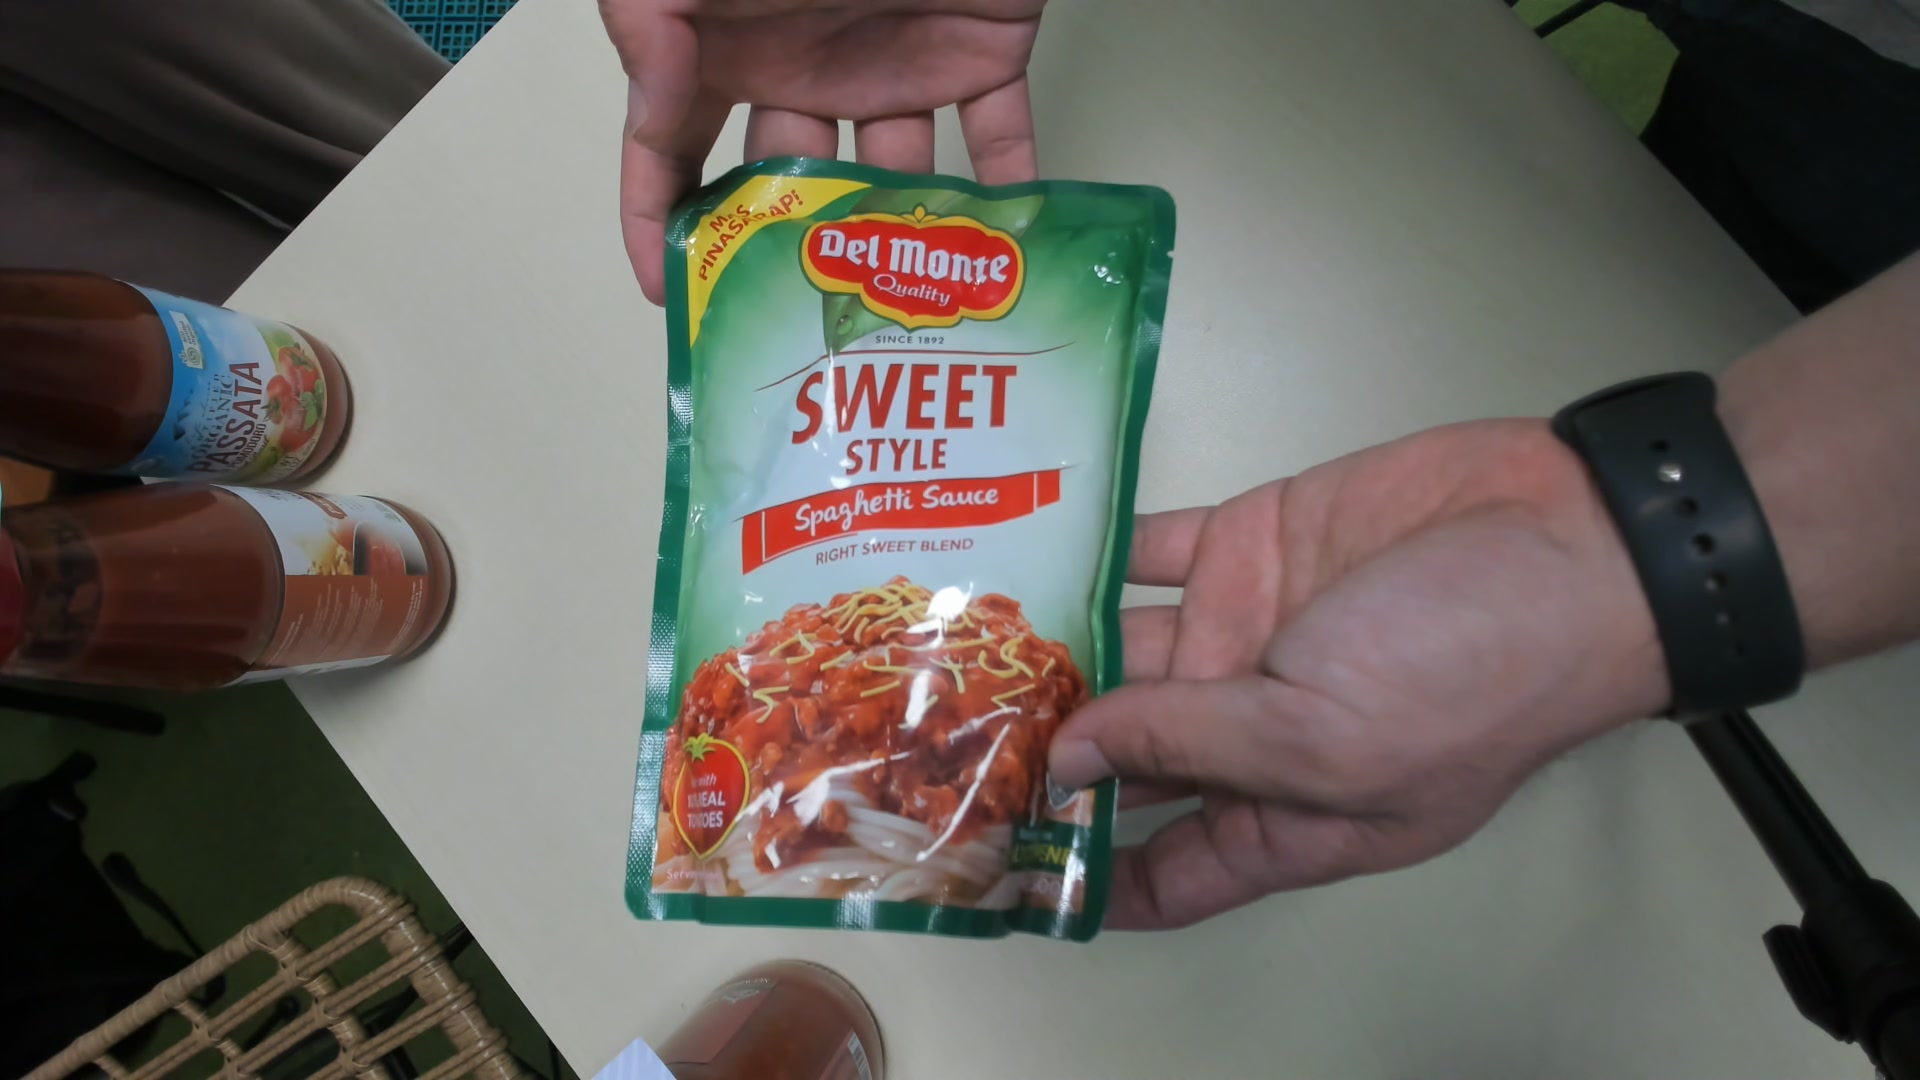PastaSauce_500-599g_Halal_NonHealthy: (650, 164, 1143, 945)
